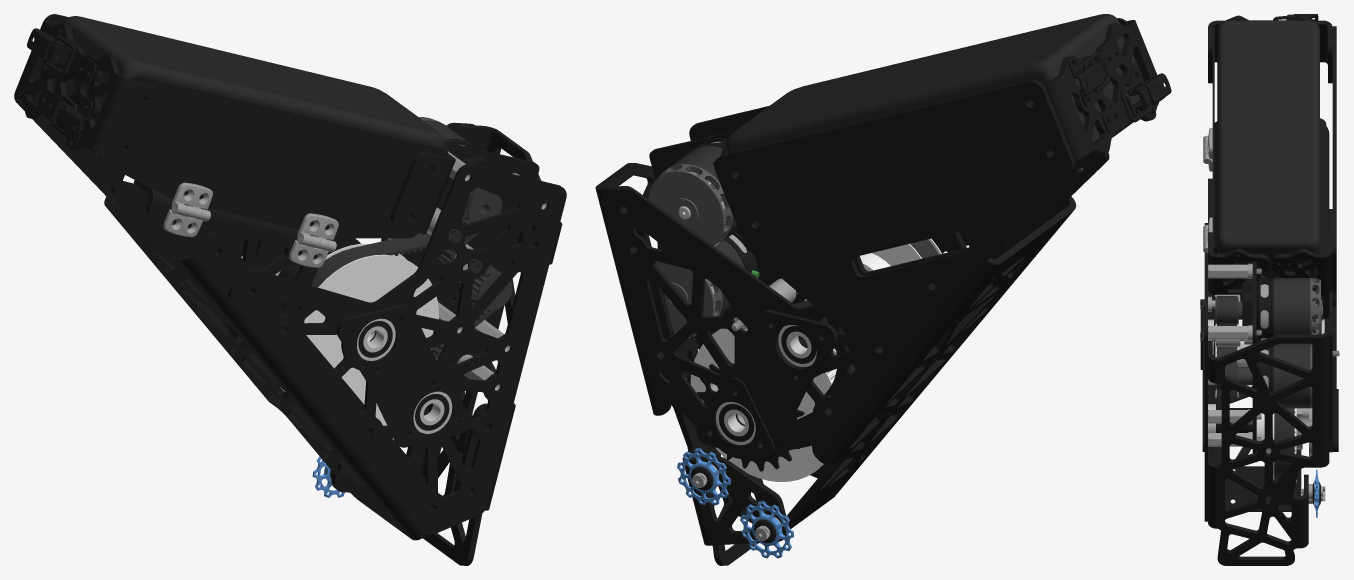
3 renders of one model, left to right at view 1: azimuth 30°, elevation 25°; view 2: azimuth 150°, elevation 25°; view 3: azimuth 270°, elevation 25°, orthographic. The views are drawn at different scales.
Visible parts, largest first — view 1: object 2, object 45, object 8, anim_eb1_6_seat_tube_mount_1_1, object 7, object 1, object 47, object 4, object 6; view 2: object 45, object 2, object 8, anim_eb1_6_seat_tube_mount_1_1, object 3, object 7, object 4, anim_eb1_1_11t_Jockey_Wheel_with_bearing_2__0, anim_eb1_0_11t_Jockey_Wheel_with_bearing_1__0, object 5, object 1; view 3: object 8, anim_eb1_6_seat_tube_mount_1_1, object 2, object 45, object 1, object 5, object 47, object 3, object 7, object 6, object 4.
Part boxes in pixels (x1,y1,x2,y2): object 2: [14, 20, 566, 540]; object 45: [14, 14, 539, 378]; object 8: [32, 16, 444, 216]; anim_eb1_6_seat_tube_mount_1_1: [331, 124, 562, 565]; object 7: [304, 243, 438, 447]; object 1: [163, 144, 546, 390]; object 47: [311, 188, 501, 358]; object 4: [275, 271, 452, 433]; object 6: [466, 191, 512, 310]; object 45: [649, 18, 1158, 455]; object 2: [601, 20, 1171, 528]; object 8: [726, 14, 1143, 160]; anim_eb1_6_seat_tube_mount_1_1: [595, 163, 789, 565]; object 3: [648, 164, 759, 336]; object 7: [690, 238, 941, 481]; object 4: [669, 206, 816, 445]; anim_eb1_1_11t_Jockey_Wheel_with_bearing_2__0: [677, 448, 730, 505]; anim_eb1_0_11t_Jockey_Wheel_with_bearing_1__0: [740, 501, 793, 558]; object 5: [662, 145, 745, 316]; object 1: [690, 136, 1094, 424]; object 8: [1217, 20, 1319, 289]; anim_eb1_6_seat_tube_mount_1_1: [1208, 318, 1329, 565]; object 2: [1200, 14, 1338, 521]; object 45: [1212, 26, 1336, 462]; object 1: [1203, 128, 1339, 456]; object 5: [1273, 278, 1310, 408]; object 47: [1217, 296, 1294, 480]; object 3: [1310, 278, 1322, 408]; object 7: [1215, 295, 1296, 482]; object 6: [1215, 296, 1252, 390]; object 4: [1208, 306, 1324, 432].
Size of the model in its own units: 0.4078 by 0.4659 by 0.1379.
